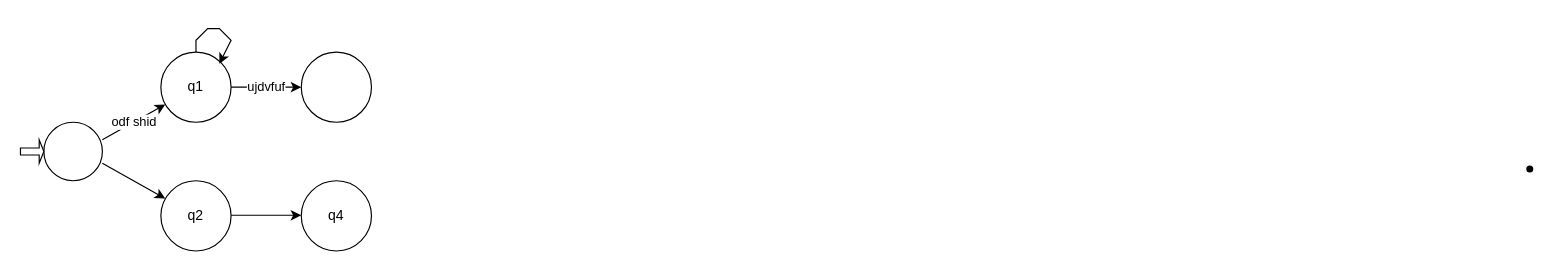
Some shapes in this 1562 by 271 pixel diagram are drawn without their labels. Here are the shapes that lost their labels. From the top down, the box of each, then its label:
(300, 51, 371, 122): q3
(43, 121, 102, 181): q0
